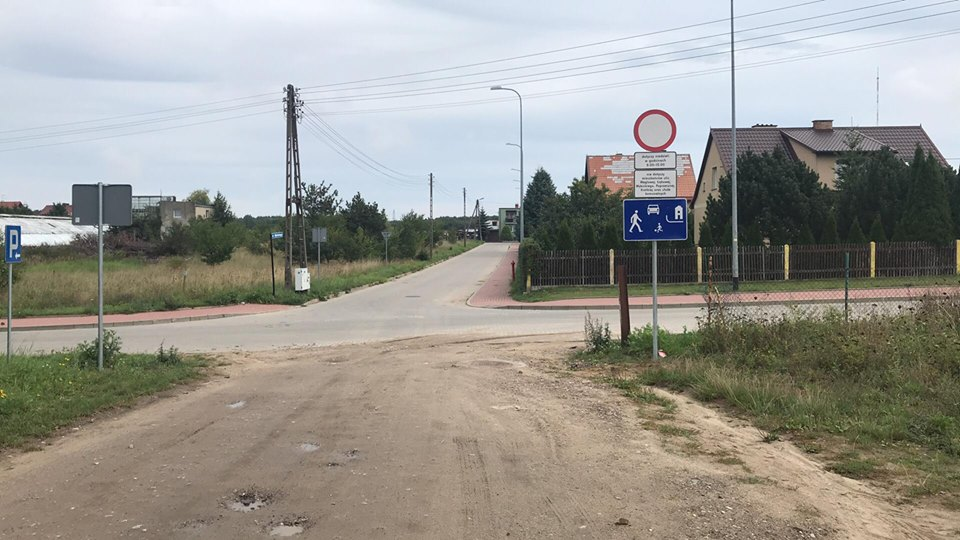no_entry_sign: (633, 110, 676, 150)
